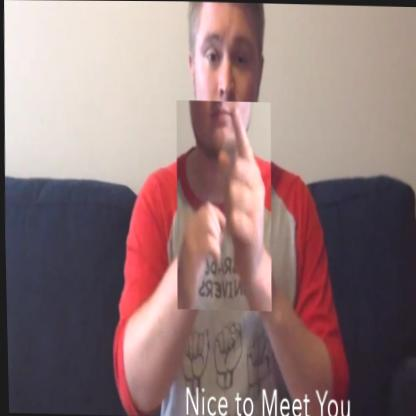NiceToMeetYou: (172, 99, 273, 311)
